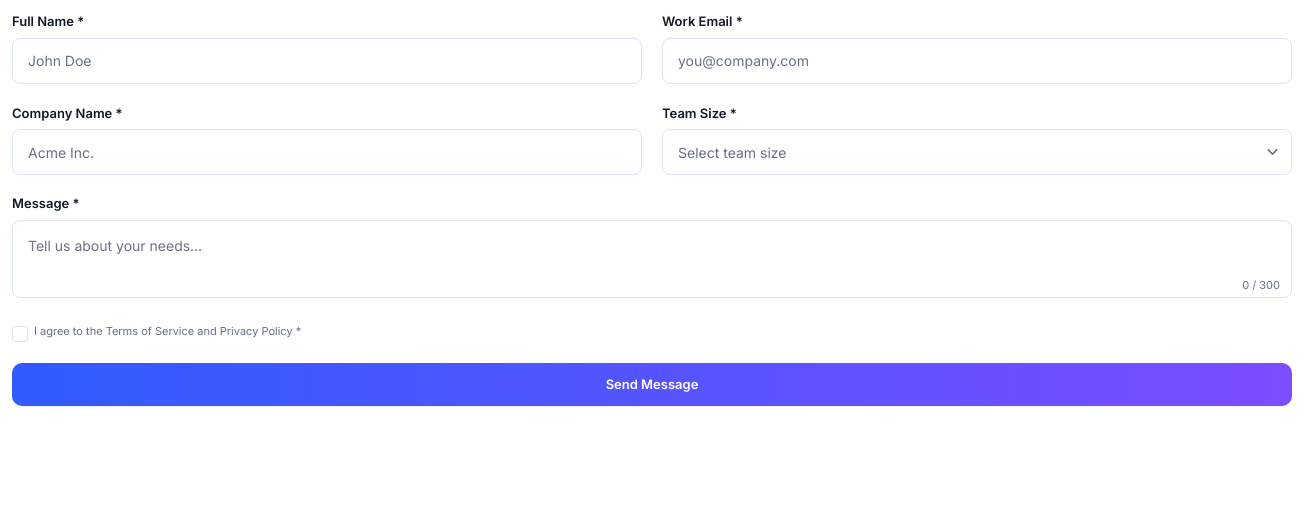
Test case: ContactForm › validates minimum lengths and email format
The image size is (1304, 520).
Type "Jo" into the field labelled "Full Name *" at (327, 60), box [12,38,642,84]
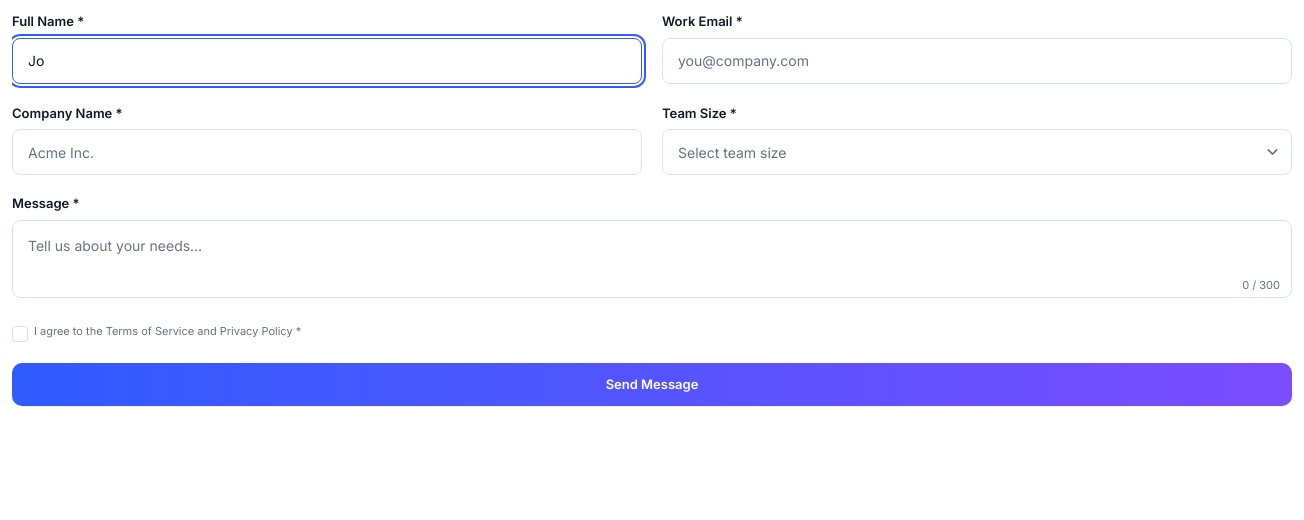
Type "not-an-email" into the field labelled "Work Email *" at (977, 60), box [662,38,1292,84]
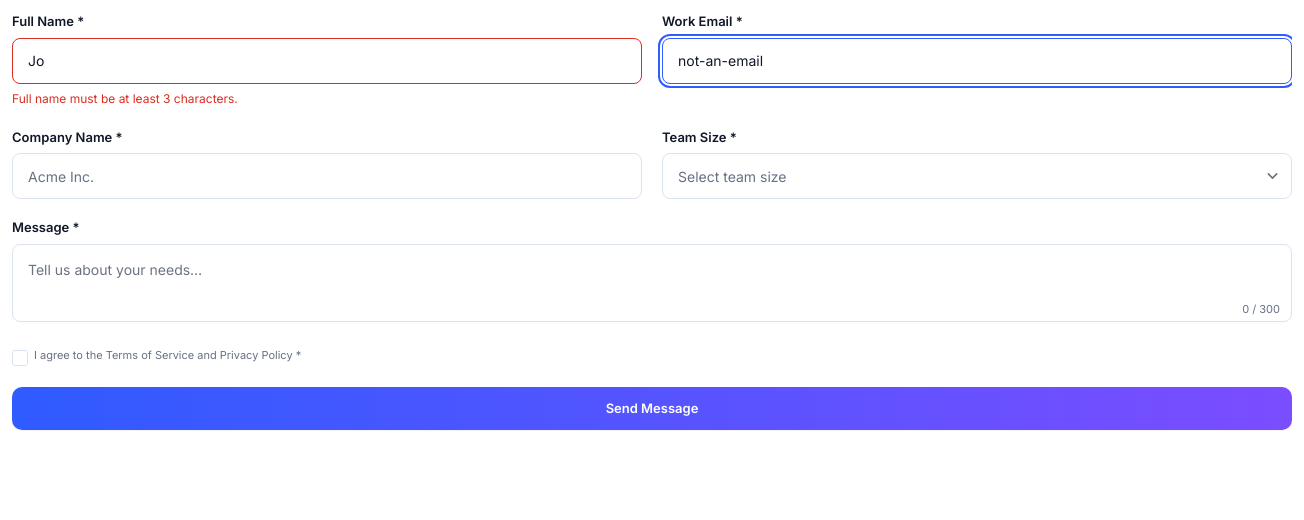
Type "too short" into the text box labelled "Message *" at (652, 282), box [12,244,1292,322]
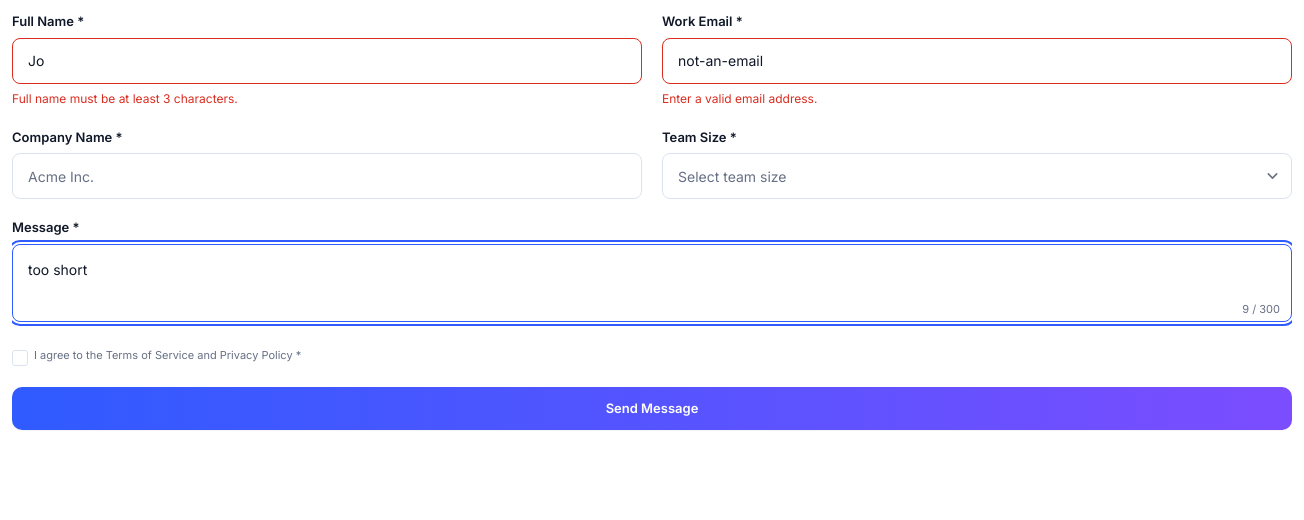
Click the button "Send Message" at (652, 408), box [12,387,1292,430]
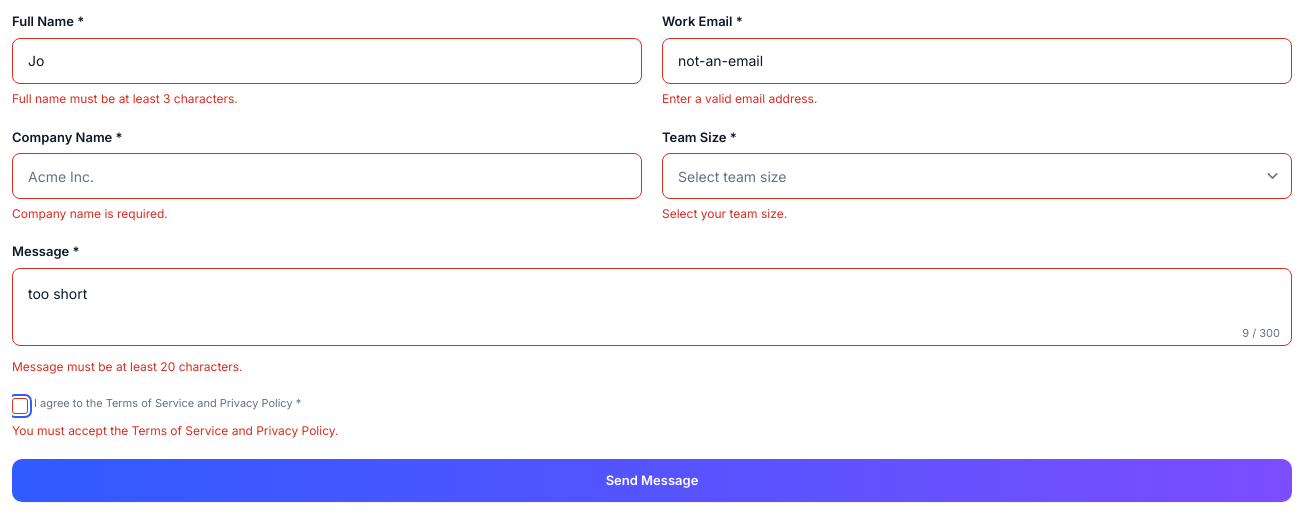
Now the text "Full name must be at least 3 characters." is shown, box [12,90,238,106]
Now the text "Enter a valid email address." is shown, box [662,90,817,106]
Now the text "Message must be at least 20 characters." is shown, box [12,358,242,374]
